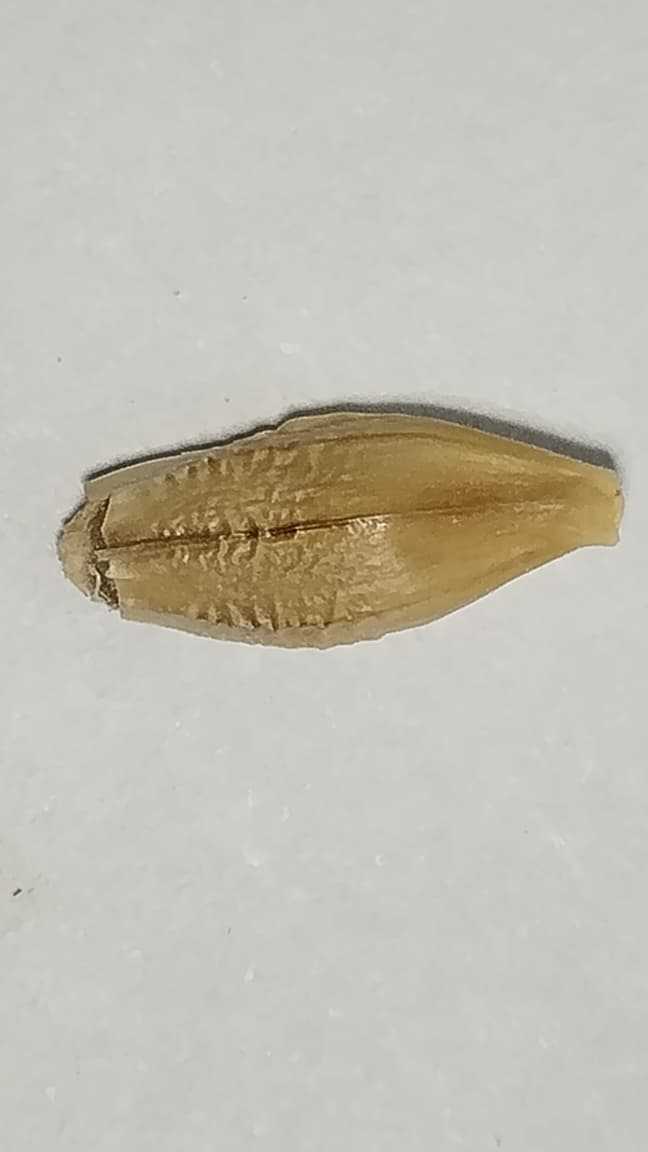healthy-70-60: (47, 413, 618, 646)
shriveledseed: (168, 429, 383, 648)
